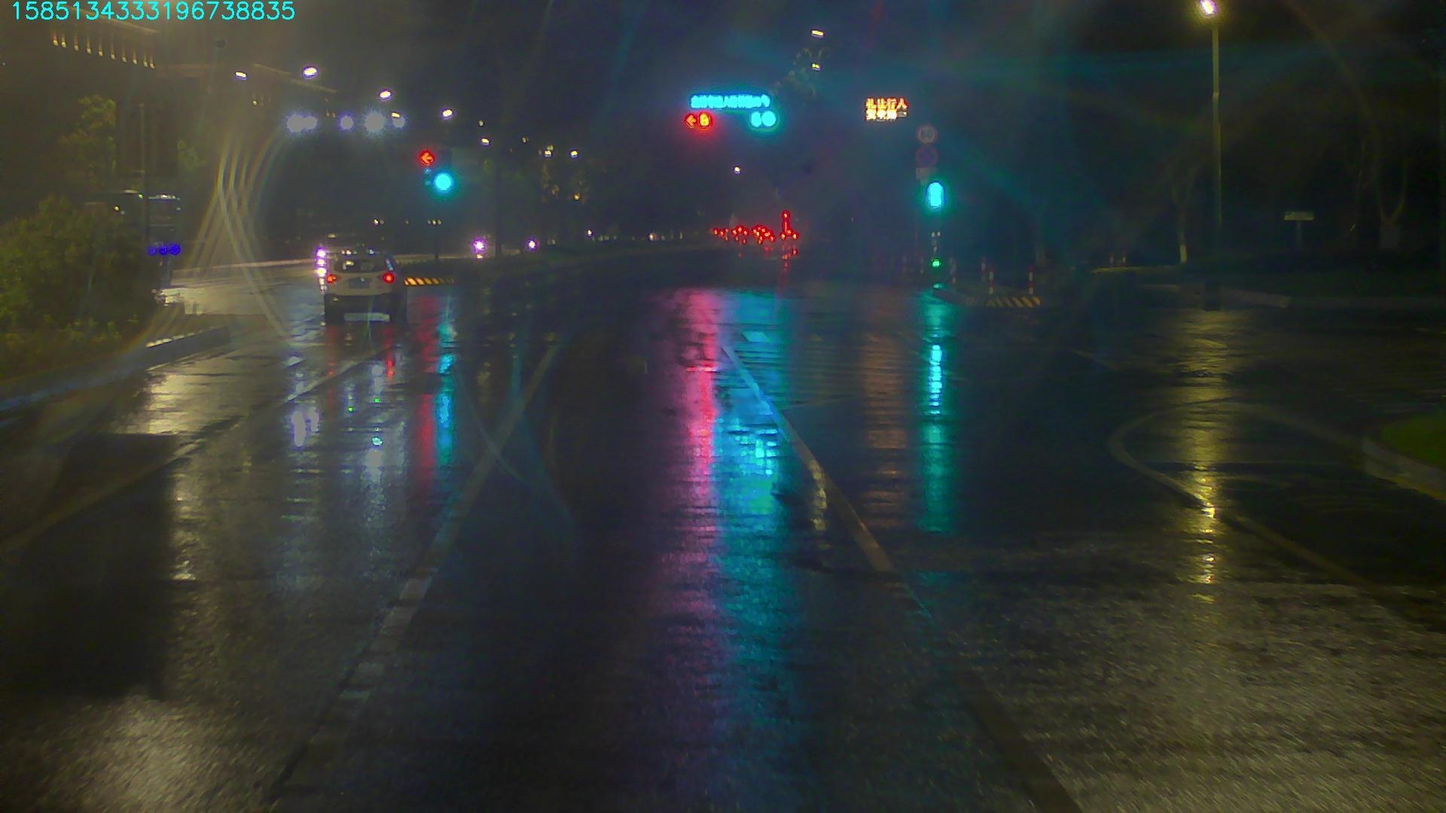green: (749, 111, 780, 127)
red: (685, 111, 712, 131)
wait_on: (689, 87, 764, 111)
